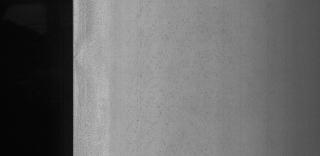silk spot: (133, 16, 190, 146)
